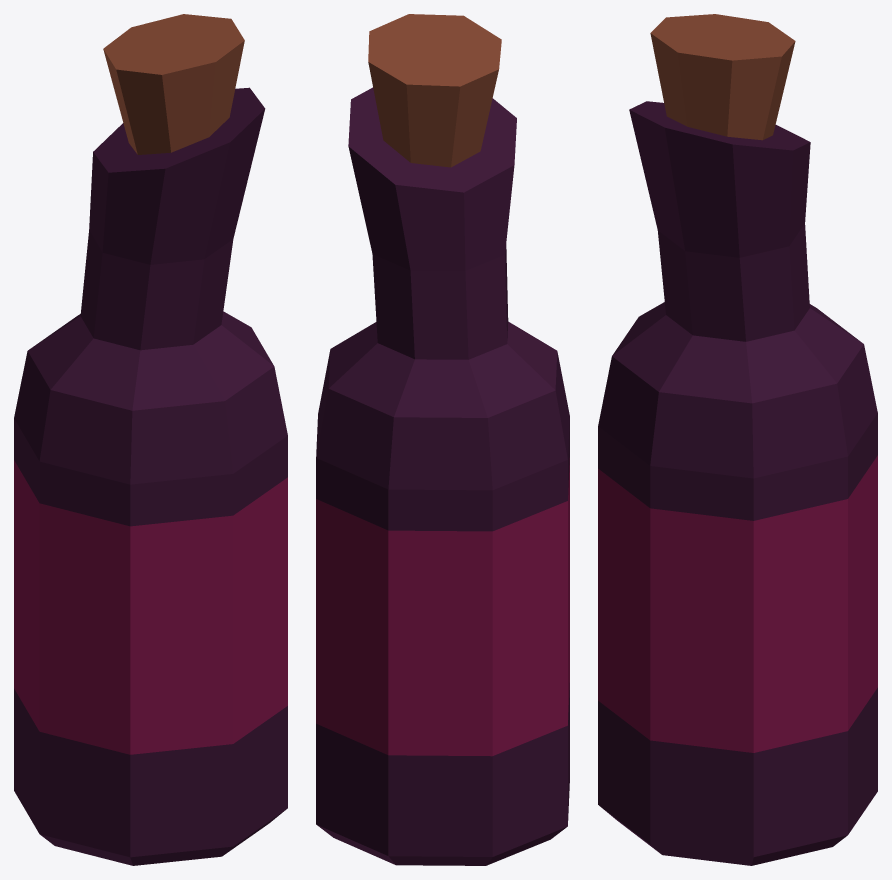
File: FizzyDrink.SelfonionFrank.fbx
3 renders of one model, left to right at view 1: azimuth 30°, elevation 25°; view 2: azimuth 150°, elevation 25°; view 3: azimuth 270°, elevation 25°, orthographic. The views are drawn at different scales.
Visible parts, largest first — view 1: FizzyDrink.SelfonionFrank; view 2: FizzyDrink.SelfonionFrank; view 3: FizzyDrink.SelfonionFrank.
Part boxes in pixels (x1,y1,x2,y2): FizzyDrink.SelfonionFrank: (14, 14, 287, 865); FizzyDrink.SelfonionFrank: (316, 14, 569, 865); FizzyDrink.SelfonionFrank: (598, 14, 877, 865).
Bounding box in the file's own units: 44.31 × 139 × 44.31.
